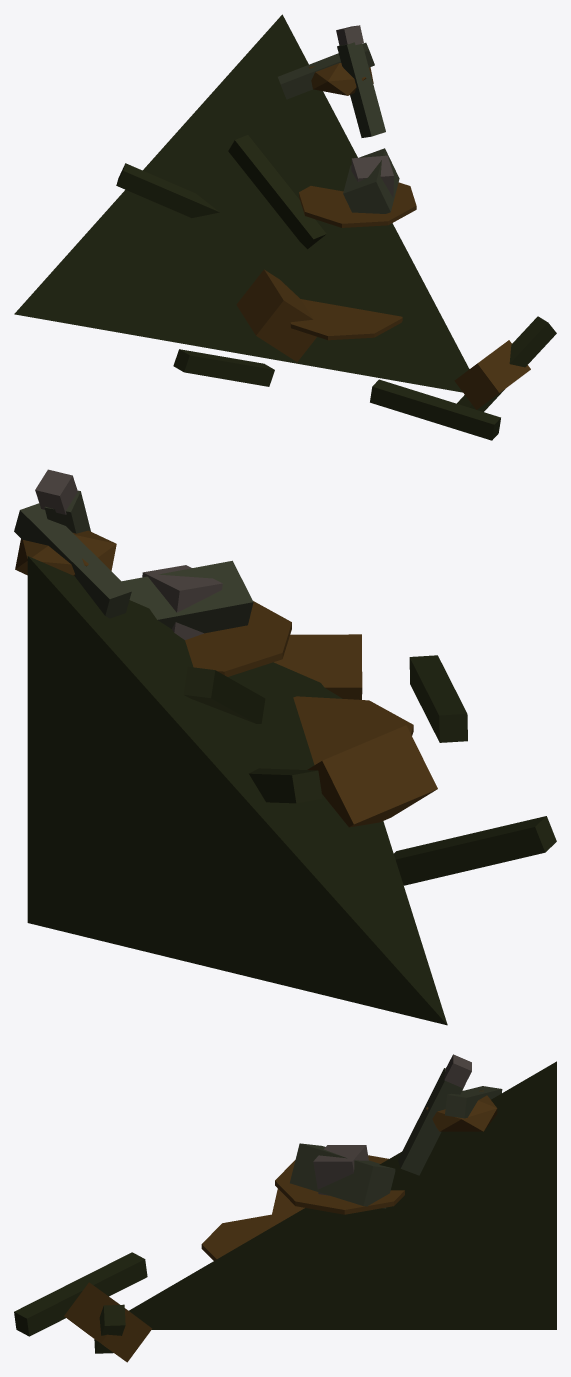
Rendered from SM_PilaZombi_RemateIzq_Altura3_s1_LOD1.fbx.
3 views of the same model, one above another, from view 1: azimuth 30°, elevation 25°; view 2: azimuth 150°, elevation 25°; view 3: azimuth 270°, elevation 25° (orthographic). The views are drawn at different scales.
Visible parts, largest first — view 1: SM_pila_zombis_v7_LOD1; view 2: SM_pila_zombis_v7_LOD1; view 3: SM_pila_zombis_v7_LOD1.
Part boxes in pixels (box(x1,y1,x2,y2)): SM_pila_zombis_v7_LOD1: box(14, 14, 556, 440); SM_pila_zombis_v7_LOD1: box(14, 469, 556, 1025); SM_pila_zombis_v7_LOD1: box(14, 1054, 556, 1362).
Bounding box in the file's own units: 2.62 × 2.01 × 3.11.
